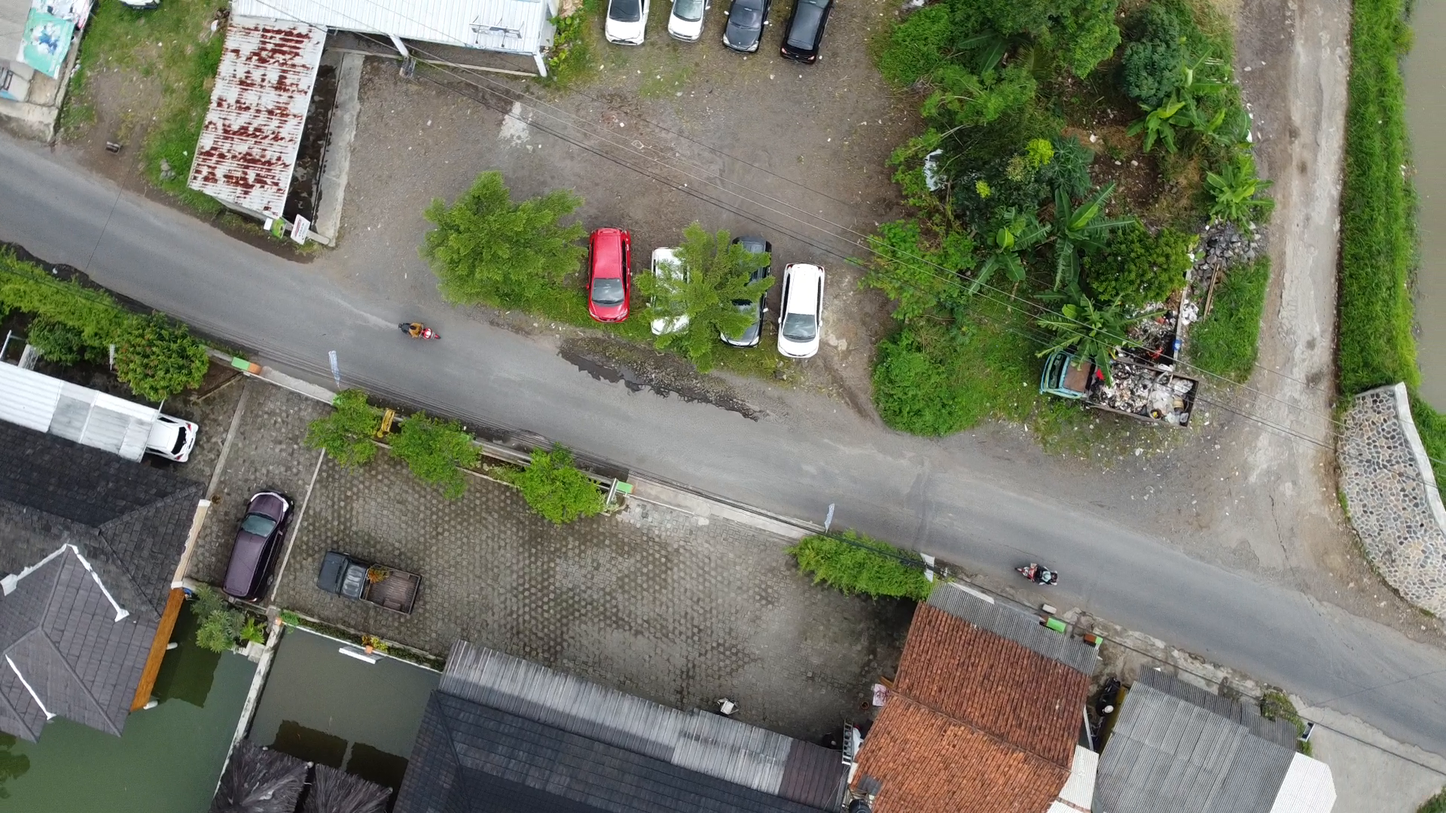mobil: (209, 480, 295, 598), (312, 542, 423, 623), (707, 234, 778, 353), (771, 257, 831, 367), (582, 224, 643, 329), (643, 241, 693, 345), (777, 3, 828, 73), (145, 409, 200, 466)
